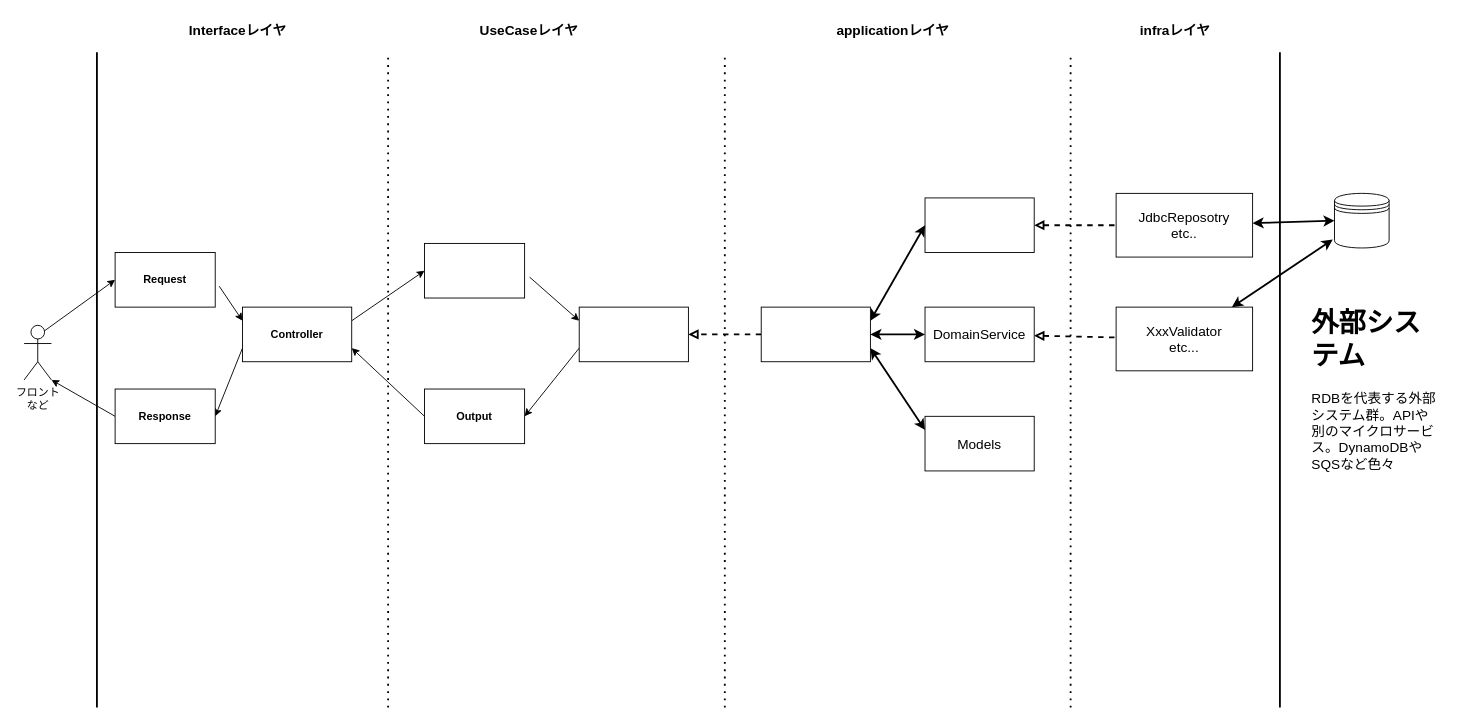
This 1459x724 diagram has some shape labels left out. Here are the shapes that lost their labels. From the top down, the centre of each, then its label:
At pixel 979 225: "Repository".
At pixel 1361 220: "RDB etc...".
At pixel 474 270: "Input".
At pixel 633 334: "UseCase".
At pixel 815 334: "Interactor".
